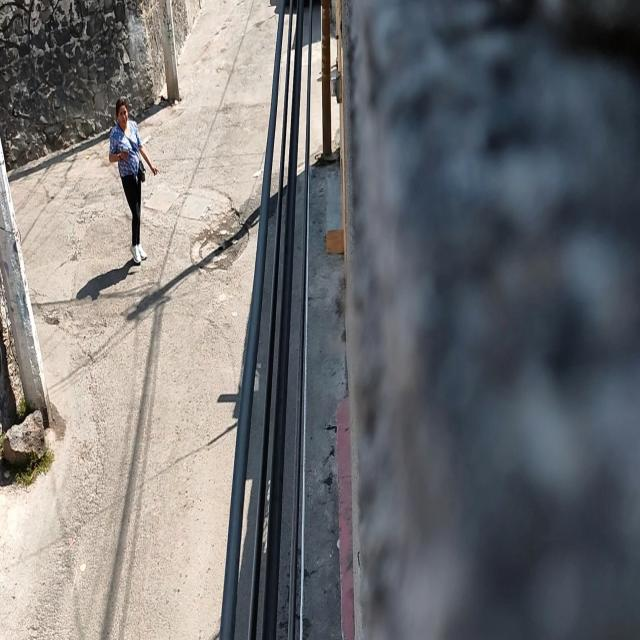adult: (106, 93, 157, 266)
